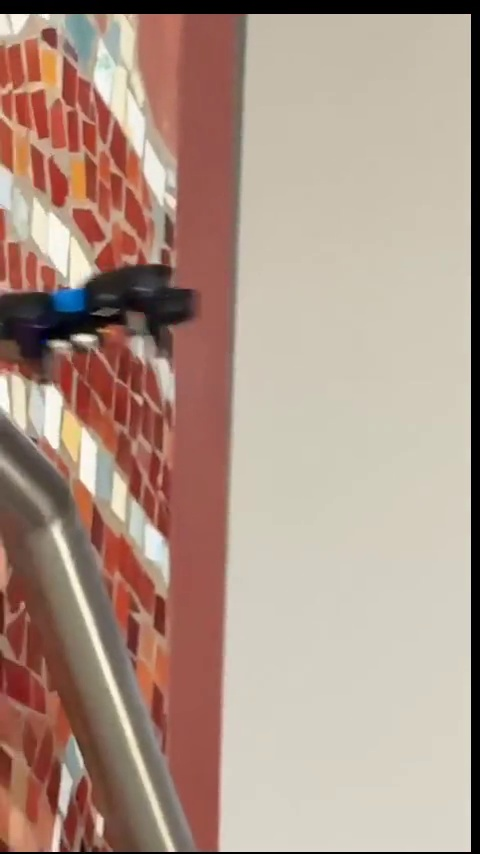drone: (0, 267, 207, 370)
